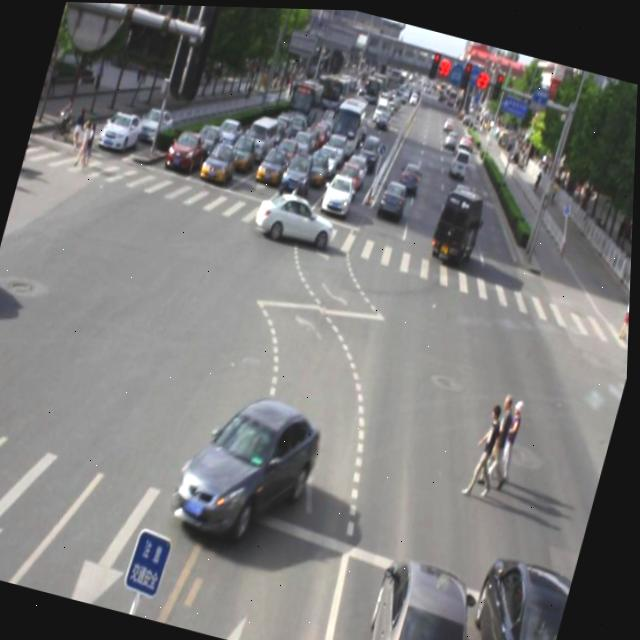car: (171, 377, 331, 551), (359, 549, 490, 640), (453, 548, 577, 640), (250, 179, 341, 253)
